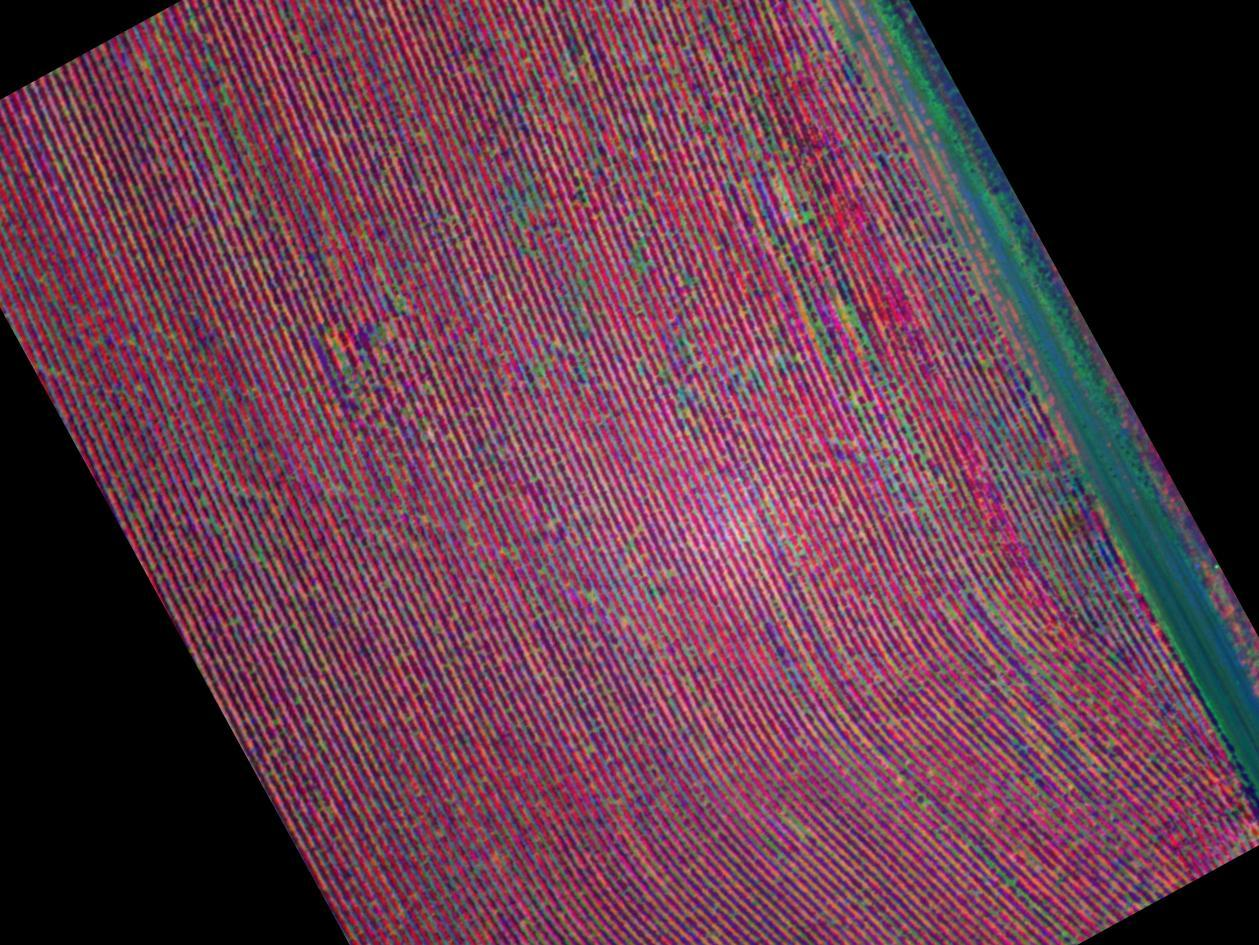dc: (330, 304, 424, 424), (821, 282, 898, 388), (761, 163, 850, 243)
